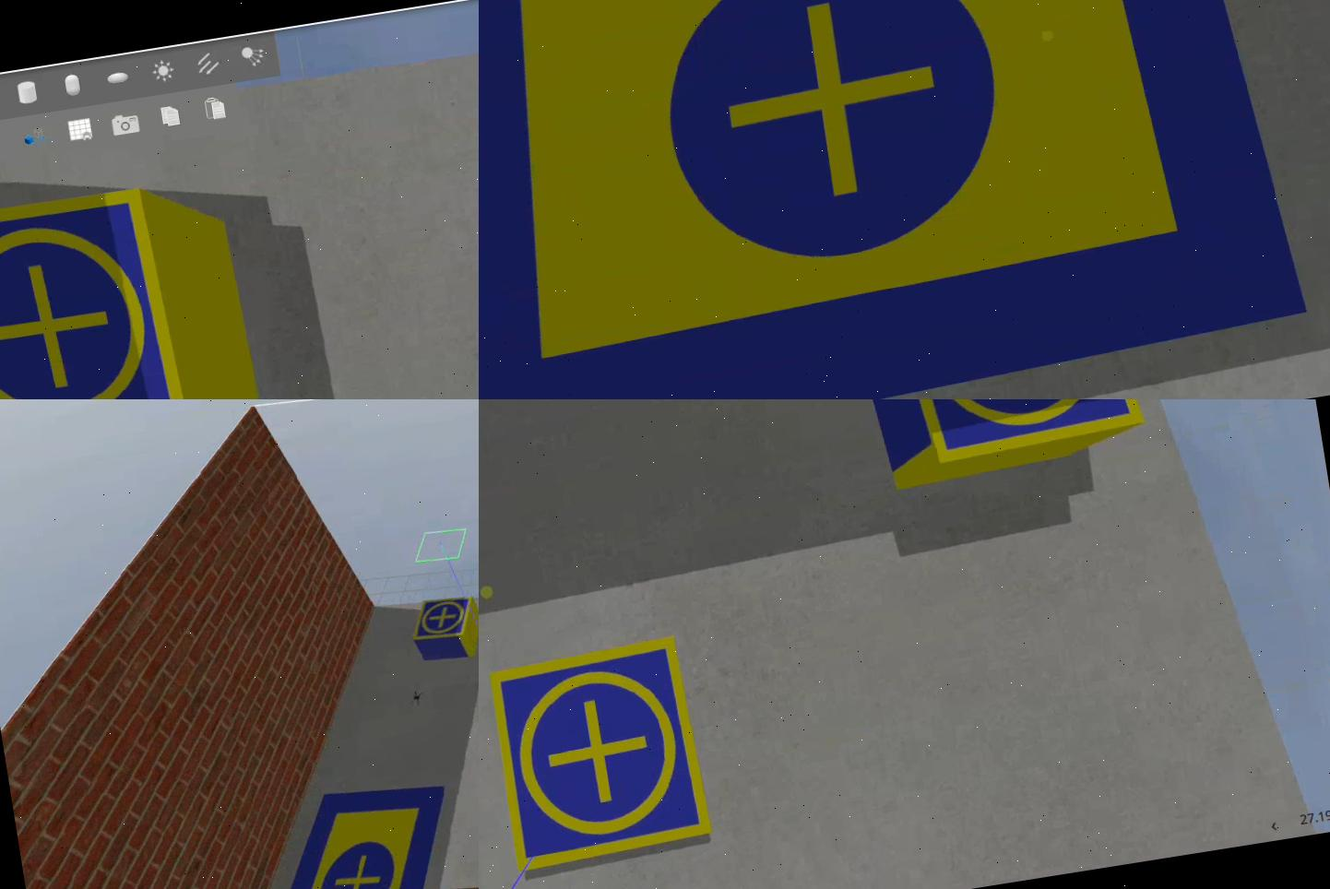large_base: (480, 1, 1316, 400), (274, 775, 460, 889)
small_base: (484, 635, 716, 874), (1, 178, 200, 400), (885, 400, 1147, 467), (410, 593, 480, 649)
